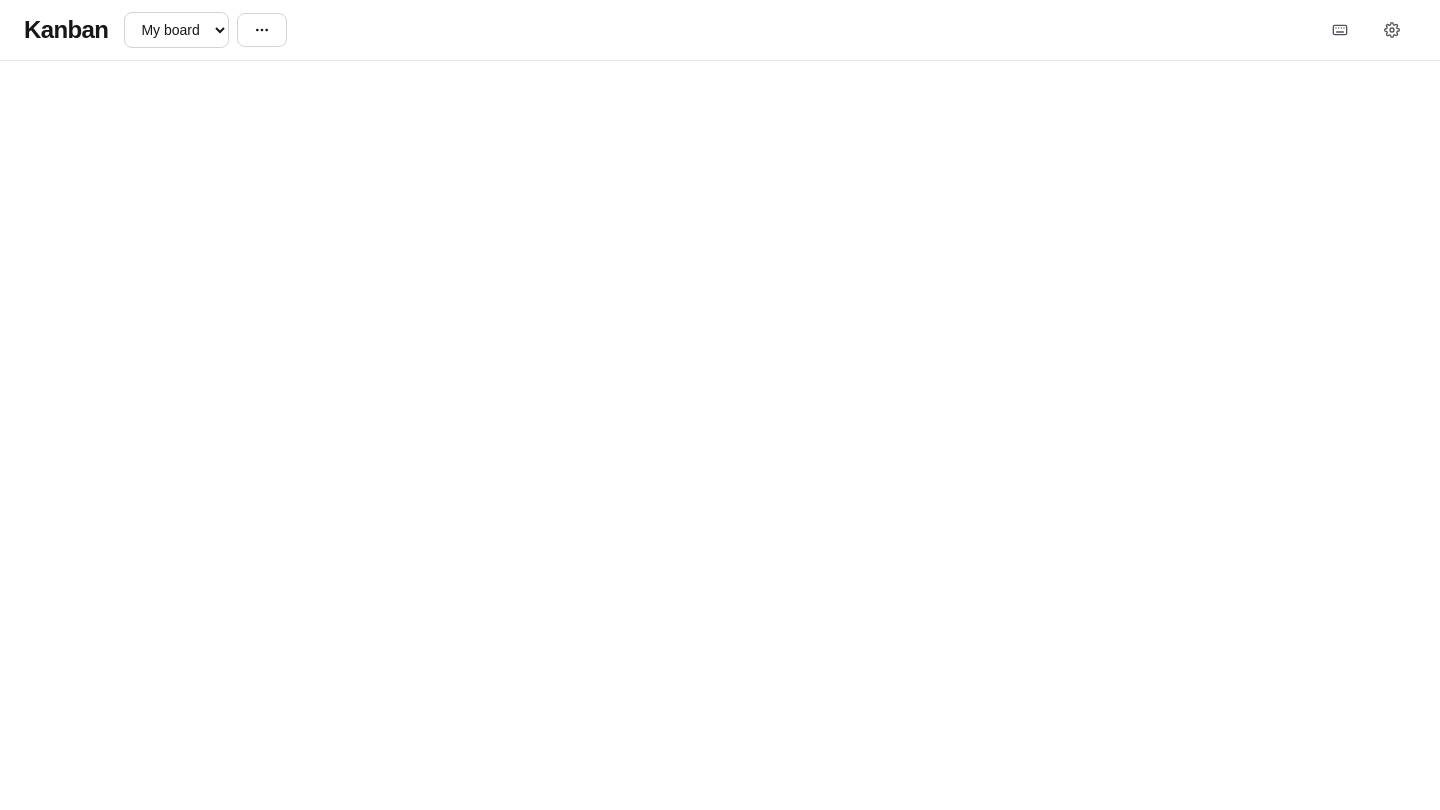
Test: TopBar › opens Settings from the icon and returns focus to it on close
The width and height of the screenshot is (1440, 810).
Step 1. Click the button named "Settings" → (1392, 30), box x1=1368 y1=14 x2=1416 y2=46
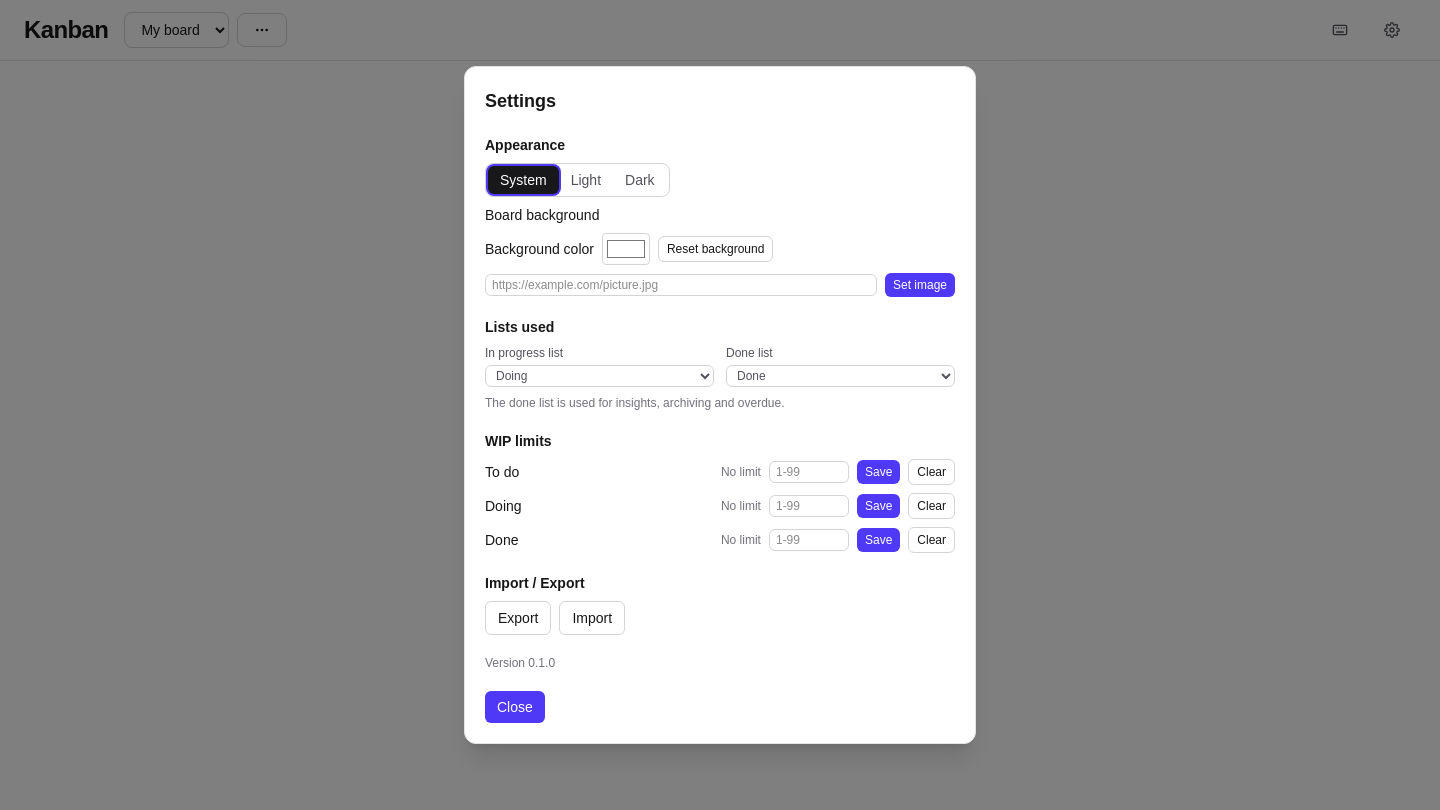
Step 2. Click the button "Close" → (515, 707), box x1=485 y1=691 x2=545 y2=723
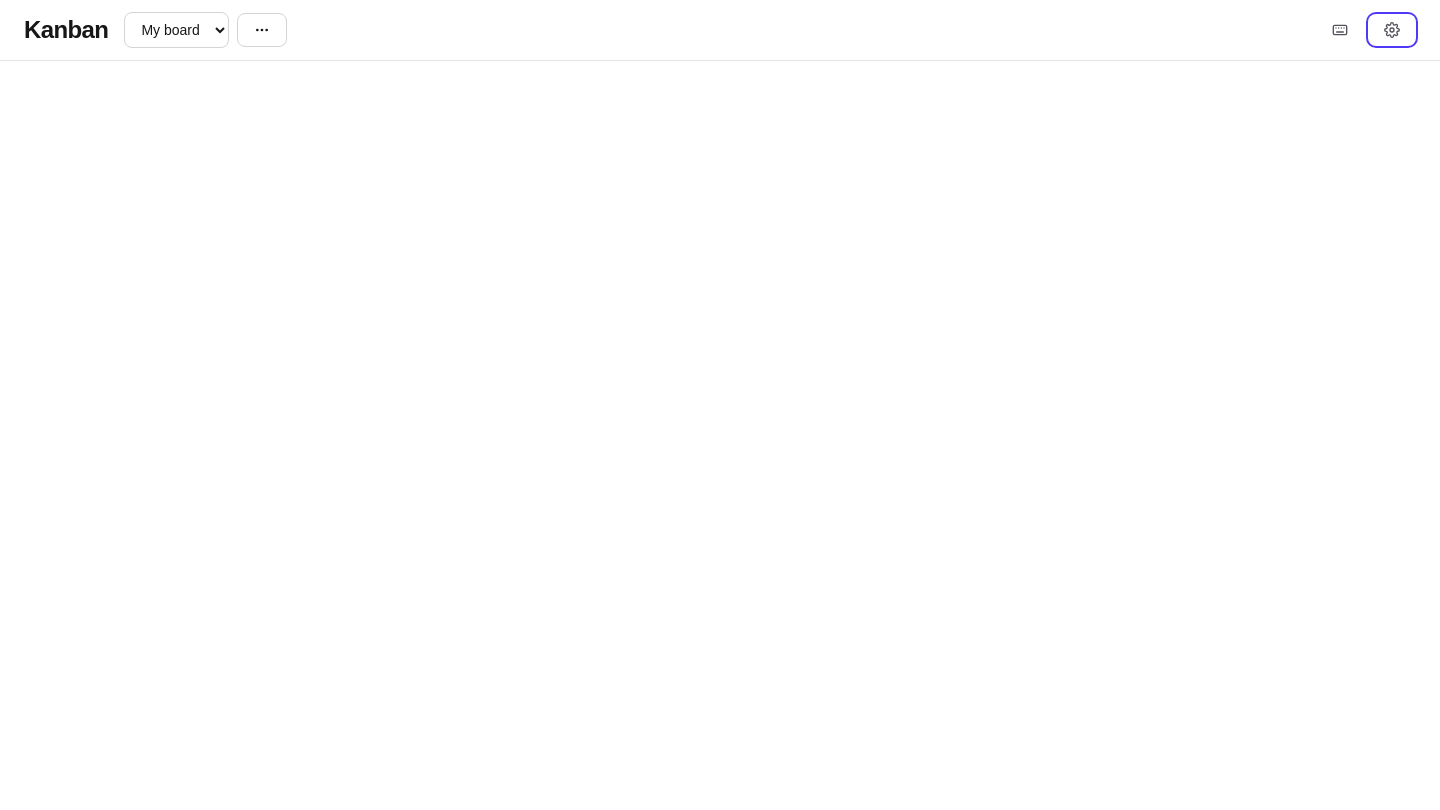
Now the dialog is gone
